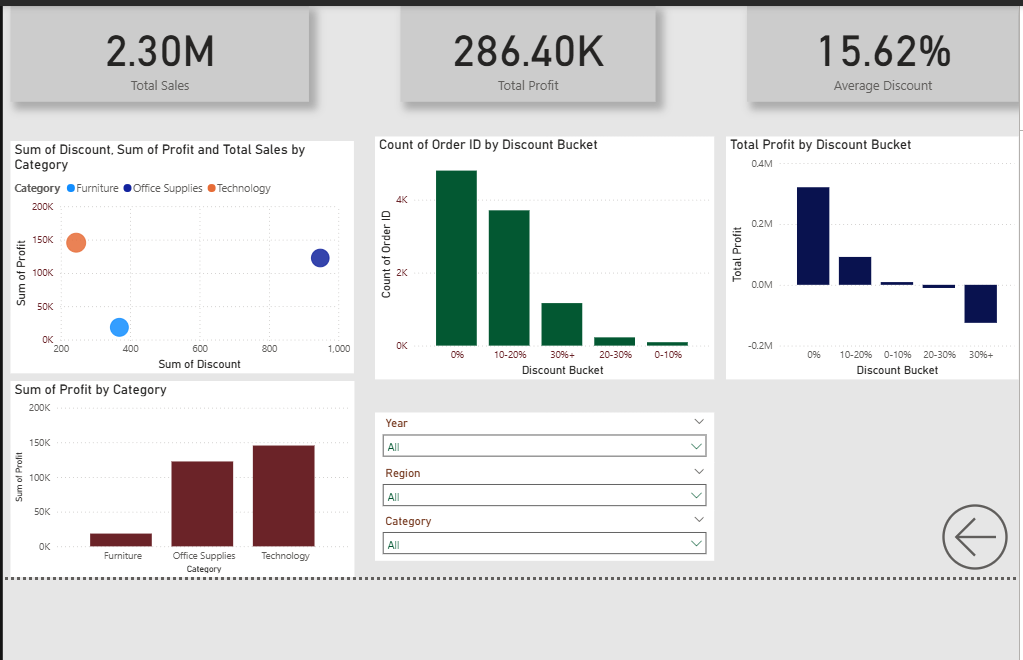

Layout of this report page (visuals, bound fields, positions):
{"tool":"powerbi","page":{"name":"Discount & Profitability Analysis","canvas":[1280,720],"ordinal":1},"visuals":[{"type":"card","fields":{"Values":["pbi.Total Sales"]},"box":[9.4,0,376.1,120.9],"z":0},{"type":"card","fields":{"Values":["pbi.Total Profit"]},"box":[500.8,0,321.3,120.9],"z":1000},{"type":"card","fields":{"Values":["pbi.Average Discount"]},"box":[937.3,0,342,120.9],"z":2000},{"type":"scatterChart","title":"Impact of Discount on Profitability","fields":{"X":["Sum(pbi.Discount)"],"Y":["Sum(pbi.Profit)"],"Size":["pbi.Total Sales"],"Series":["pbi.Category"]},"box":[9.4,170.1,432.8,292.9],"z":3000},{"type":"columnChart","title":"Order Frequency by Discount Bucket","fields":{"Category":["pbi.Discount Bucket"],"Y":["CountNonNull(pbi.Order ID)"]},"box":[468.7,164.4,427.1,306.1],"z":4000},{"type":"clusteredColumnChart","title":"Category-Level Profit Drill-Down","fields":{"Category":["pbi.Discount Bucket"],"Y":["pbi.Total Profit"]},"box":[910.9,164.4,368.5,306.1],"z":4001},{"type":"columnChart","fields":{"Category":["pbi.Category","pbi.Sub-Category"],"Y":["Sum(pbi.Profit)"]},"box":[9,473,433,247],"z":4002},{"type":"slicer","fields":{"Values":["pbi.Order Date.Variation.Date Hierarchy.Year"]},"box":[468.7,512.1,427.1,62.4],"z":4003},{"type":"slicer","fields":{"Values":["pbi.Region"]},"box":[468.7,574.5,427.1,60.5],"z":4004},{"type":"slicer","fields":{"Values":["pbi.Category"]},"box":[468.7,635,427.1,64.3],"z":4005},{"type":"actionButton","box":[1173.6,618,105.8,102],"z":4006}]}

Visuals, with their boxes on the page's 1280x720 design canvas (x1, y1, x2, y2). These are canvas units, not pixel positions in the 1023x660 screenshot, which may show the page scaled, cropped or inside an application window:
card - pbi.Total Sales: box=[9, 0, 386, 121]
card - pbi.Total Profit: box=[501, 0, 822, 121]
card - pbi.Average Discount: box=[937, 0, 1279, 121]
"Impact of Discount on Profitability" scatterChart: box=[9, 170, 442, 463]
"Order Frequency by Discount Bucket" columnChart: box=[469, 164, 896, 470]
"Category-Level Profit Drill-Down" clusteredColumnChart: box=[911, 164, 1279, 470]
columnChart - pbi.Category x pbi.Sub-Category: box=[9, 473, 442, 720]
slicer - pbi.Order Date.Variation.Date Hierarchy.Year: box=[469, 512, 896, 574]
slicer - pbi.Region: box=[469, 574, 896, 635]
slicer - pbi.Category: box=[469, 635, 896, 699]
actionButton: box=[1174, 618, 1279, 720]
